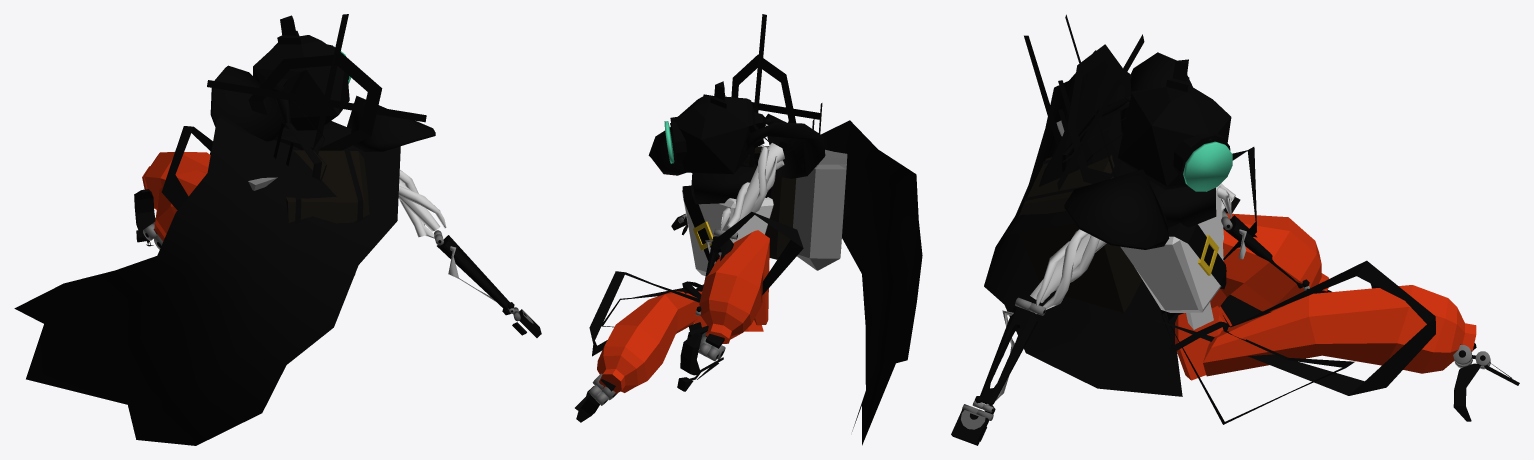
The model's file is Hero3_noWeapon.obj.
3 views of the same model, side by side, from view 1: azimuth 30°, elevation 25°; view 2: azimuth 150°, elevation 25°; view 3: azimuth 270°, elevation 25° (orthographic). The views are drawn at different scales.
Parts seen in each view (by area): view 1: Cape, Backpack, Head, LeftShoulder, RightShoulder, RightForearm, RightBicep, RightLeg, Plane, LeftLeg, LeftFoot; view 2: Cape, Backpack, Head, RightLeg, LeftLeg, Plane, Torso, LeftShoulder, LeftBicep, Cube, LeftFoot, RightShoulder (+4 smaller); view 3: Cape, RightLeg, Backpack, Head, Plane, Torso, LeftLeg, RightShoulder, RightForearm, RightBicep, Cube, Pelvis (+5 smaller).
Boxes of the visible parts, x1=… form: Cape: x1=14, y1=115, x2=400, y2=445; Backpack: x1=207, y1=14, x2=426, y2=275; Head: x1=253, y1=15, x2=351, y2=181; LeftShoulder: x1=210, y1=65, x2=291, y2=141; RightShoulder: x1=347, y1=95, x2=435, y2=151; RightForearm: x1=434, y1=230, x2=514, y2=315; RightBicep: x1=398, y1=169, x2=446, y2=238; RightLeg: x1=142, y1=152, x2=210, y2=209; Plane: x1=161, y1=126, x2=212, y2=209; LeftLeg: x1=154, y1=170, x2=207, y2=241; LeftFoot: x1=134, y1=189, x2=155, y2=246; Cape: x1=742, y1=120, x2=922, y2=445; Backpack: x1=703, y1=14, x2=847, y2=270; Head: x1=664, y1=81, x2=786, y2=174; RightLeg: x1=597, y1=290, x2=699, y2=394; LeftLeg: x1=699, y1=230, x2=769, y2=343; Plane: x1=589, y1=211, x2=803, y2=356; Torso: x1=682, y1=185, x2=773, y2=275; LeftShoulder: x1=744, y1=122, x2=825, y2=178; LeftBicep: x1=720, y1=143, x2=784, y2=232; Cube: x1=691, y1=164, x2=771, y2=204; LeftFoot: x1=677, y1=332, x2=723, y2=391; RightShoulder: x1=648, y1=127, x2=686, y2=175; Cape: x1=984, y1=50, x2=1271, y2=396; RightLeg: x1=1203, y1=285, x2=1476, y2=376; Backpack: x1=1018, y1=14, x2=1144, y2=312; Head: x1=1062, y1=59, x2=1232, y2=191; Plane: x1=1155, y1=147, x2=1435, y2=424; Torso: x1=1120, y1=185, x2=1226, y2=329; LeftLeg: x1=1185, y1=213, x2=1328, y2=313; RightShoulder: x1=1064, y1=169, x2=1169, y2=249; RightForearm: x1=972, y1=297, x2=1045, y2=414; RightBicep: x1=1030, y1=229, x2=1106, y2=313; Cube: x1=1148, y1=180, x2=1216, y2=228; Pelvis: x1=1175, y1=305, x2=1231, y2=380.
Size of the model in its own units: 3.84 by 3.89 by 4.32.
